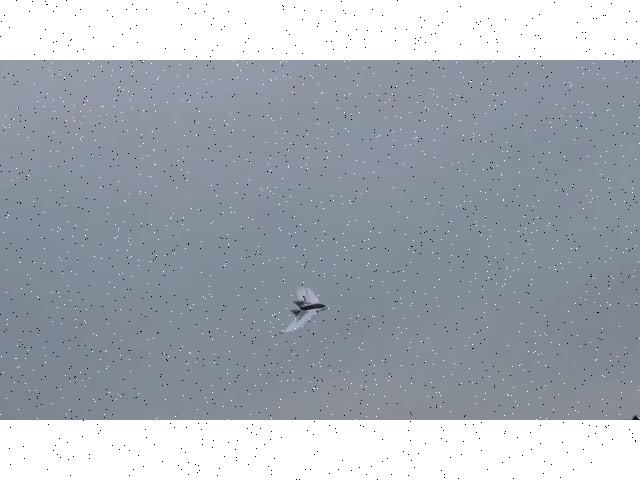Anti-Drone: (280, 286, 328, 334)
